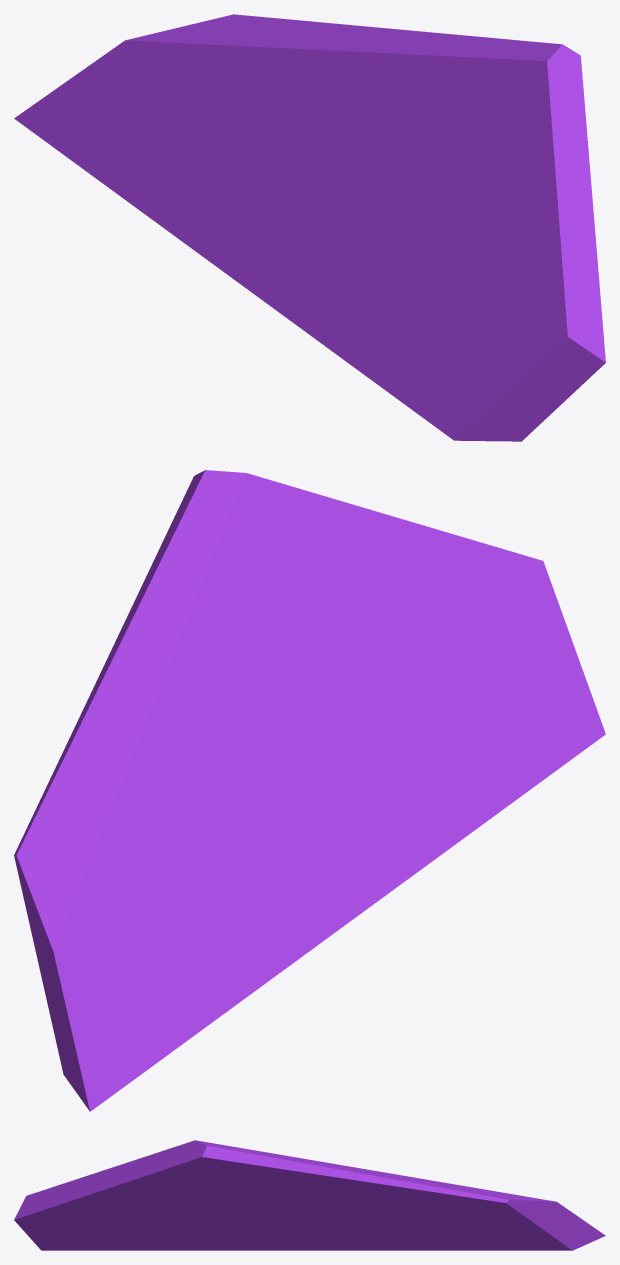
Rendered from Window_67_1_chunks.fbx.
3 renders of one model, top to bottom at view 1: azimuth 30°, elevation 25°; view 2: azimuth 150°, elevation 25°; view 3: azimuth 270°, elevation 25°, orthographic. The views are drawn at different scales.
Parts seen in each view (by area): view 1: Window_67_1_1, Window_67_1_4, Window_67_1_5, Window_67_1_3, Window_67_1_10, Window_67_1_2, Window_67_1_0, Window_67_1_13, Window_67_1_7, Window_67_1_12, Window_67_1_11, Window_67_1_14 (+3 smaller); view 2: Window_67_1_1, Window_67_1_5, Window_67_1_4, Window_67_1_10, Window_67_1_3, Window_67_1_11, Window_67_1_7, Window_67_1_2, Window_67_1_13, Window_67_1_12, Window_67_1_0, Window_67_1_15 (+3 smaller); view 3: Window_67_1_0, Window_67_1_1, Window_67_1_5, Window_67_1_10, Window_67_1_3, Window_67_1_4, Window_67_1_11, Window_67_1_7, Window_67_1_15, Window_67_1_12, Window_67_1_13, Window_67_1_6 (+1 smaller).
Boxes of the visible parts, bbox=[...] form: Window_67_1_1: bbox=[372, 217, 605, 441]; Window_67_1_4: bbox=[387, 104, 595, 249]; Window_67_1_5: bbox=[204, 99, 352, 321]; Window_67_1_3: bbox=[291, 152, 391, 380]; Window_67_1_10: bbox=[333, 25, 515, 130]; Window_67_1_2: bbox=[379, 148, 461, 344]; Window_67_1_0: bbox=[441, 40, 591, 184]; Window_67_1_13: bbox=[155, 92, 234, 257]; Window_67_1_7: bbox=[121, 20, 274, 128]; Window_67_1_12: bbox=[14, 91, 124, 198]; Window_67_1_11: bbox=[209, 14, 356, 85]; Window_67_1_14: bbox=[119, 95, 181, 221]; Window_67_1_1: bbox=[409, 523, 605, 804]; Window_67_1_5: bbox=[176, 740, 414, 948]; Window_67_1_4: bbox=[262, 487, 414, 692]; Window_67_1_10: bbox=[80, 524, 266, 722]; Window_67_1_3: bbox=[274, 704, 509, 873]; Window_67_1_11: bbox=[14, 711, 155, 877]; Window_67_1_7: bbox=[18, 803, 190, 960]; Window_67_1_2: bbox=[272, 648, 479, 767]; Window_67_1_13: bbox=[131, 861, 312, 990]; Window_67_1_12: bbox=[55, 987, 218, 1111]; Window_67_1_0: bbox=[154, 470, 292, 618]; Window_67_1_15: bbox=[37, 904, 133, 1054]; Window_67_1_0: bbox=[123, 1140, 307, 1222]; Window_67_1_1: bbox=[14, 1172, 167, 1250]; Window_67_1_5: bbox=[256, 1209, 410, 1250]; Window_67_1_10: bbox=[235, 1147, 395, 1196]; Window_67_1_3: bbox=[158, 1211, 277, 1250]; Window_67_1_4: bbox=[93, 1149, 232, 1220]; Window_67_1_11: bbox=[380, 1175, 519, 1209]; Window_67_1_7: bbox=[401, 1189, 558, 1225]; Window_67_1_15: bbox=[485, 1203, 588, 1242]; Window_67_1_12: bbox=[463, 1224, 605, 1250]; Window_67_1_13: bbox=[390, 1229, 489, 1250]; Window_67_1_6: bbox=[406, 1213, 534, 1234].
Bounding box in the file's own units: 405 × 415 × 1410.
